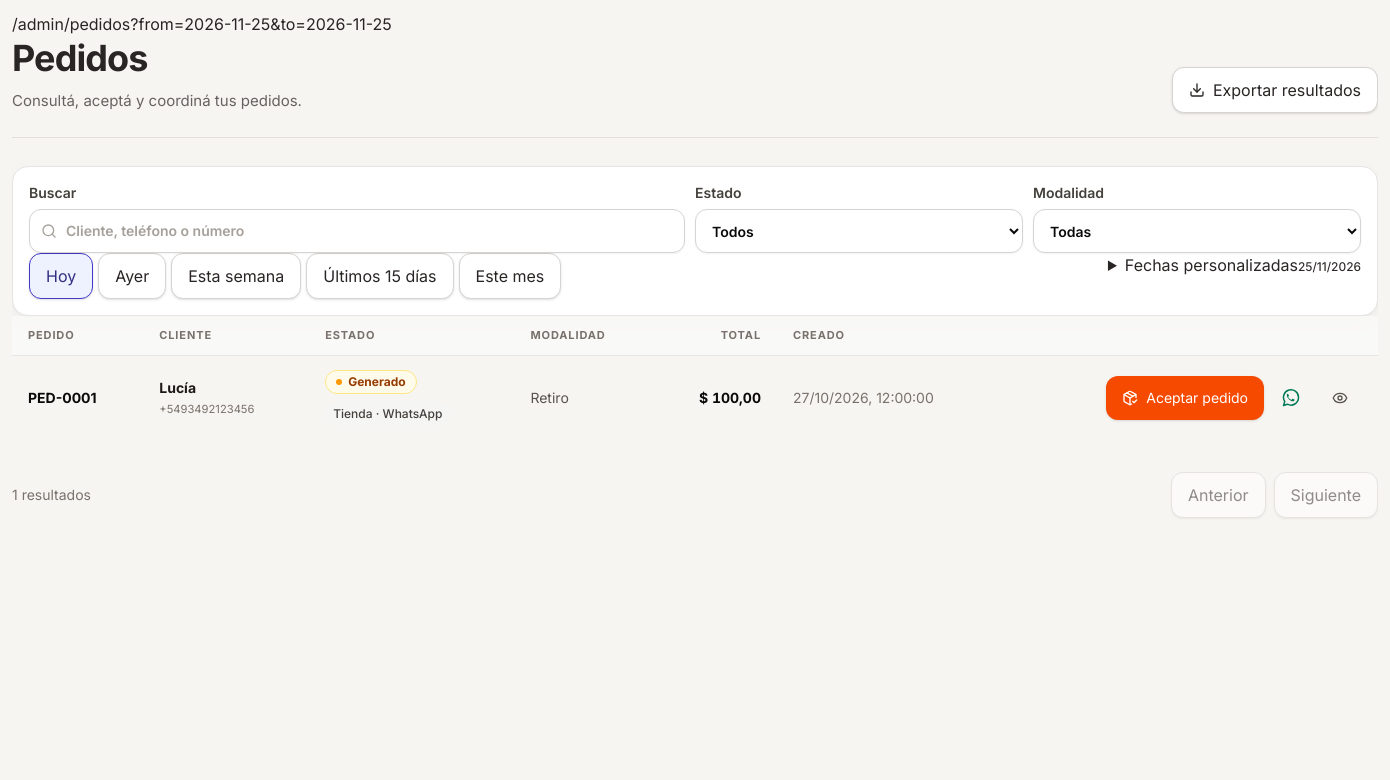
Scenario: customer WhatsApp actions › accepts an order without inventory without promising a stock reservation
Click the button "Aceptar pedido": (1185,398) [1106,376,1264,420]
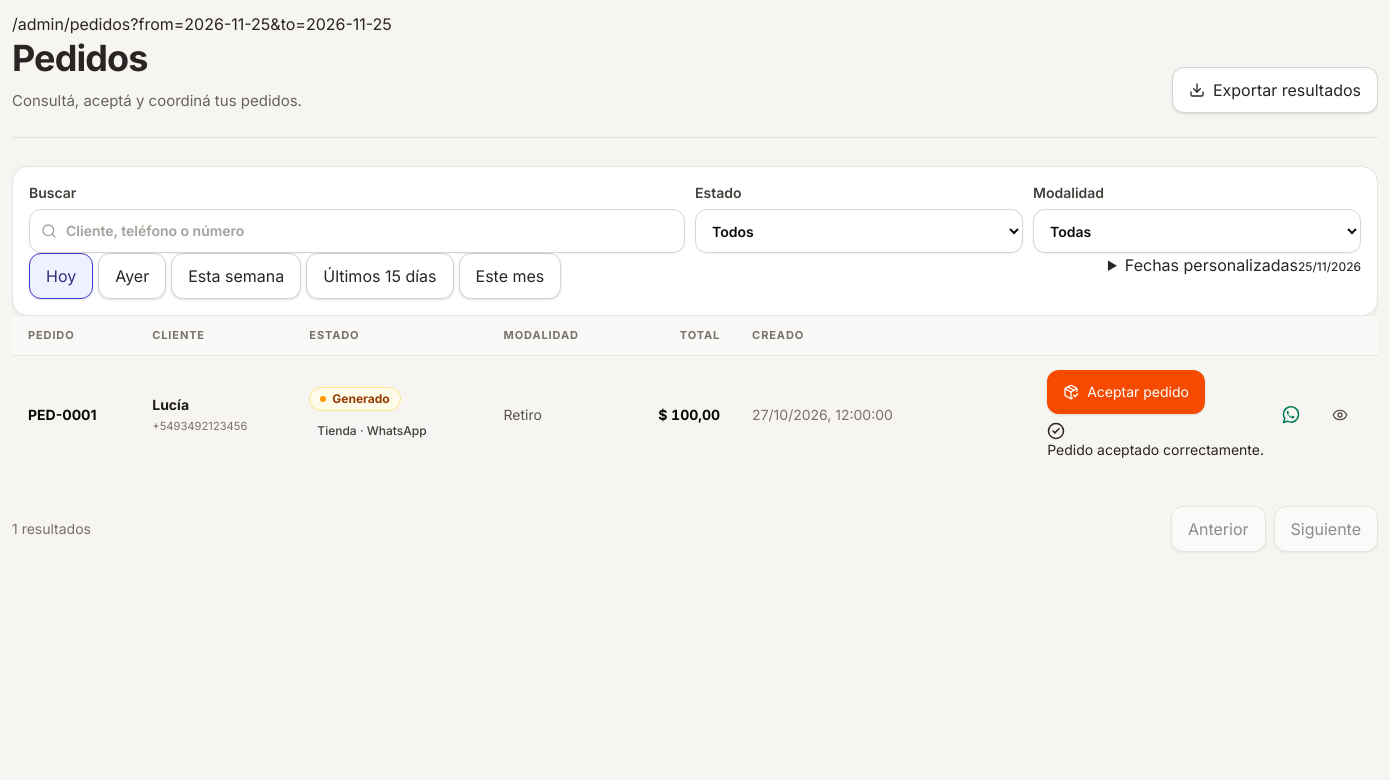
Expected: the message does not show "reservadas", [1047,422,1264,460]
Result: the message reads "Pedido aceptado correctamente." at [1047,441,1264,458]
